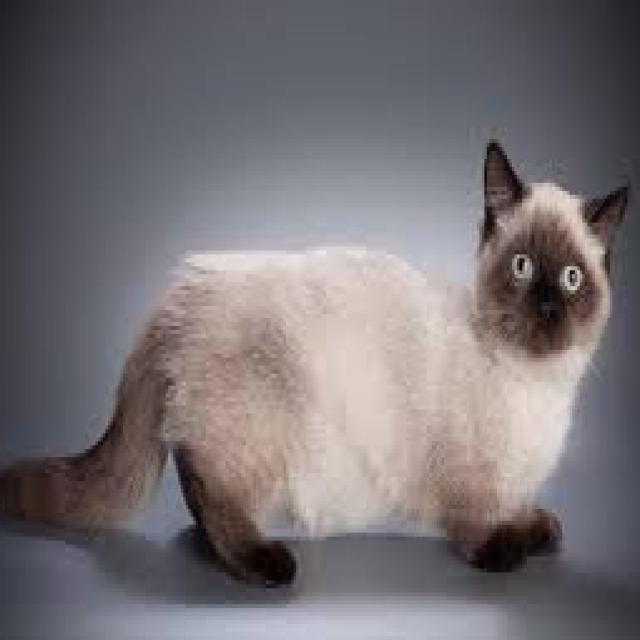Munchkin: (0, 127, 630, 588)
